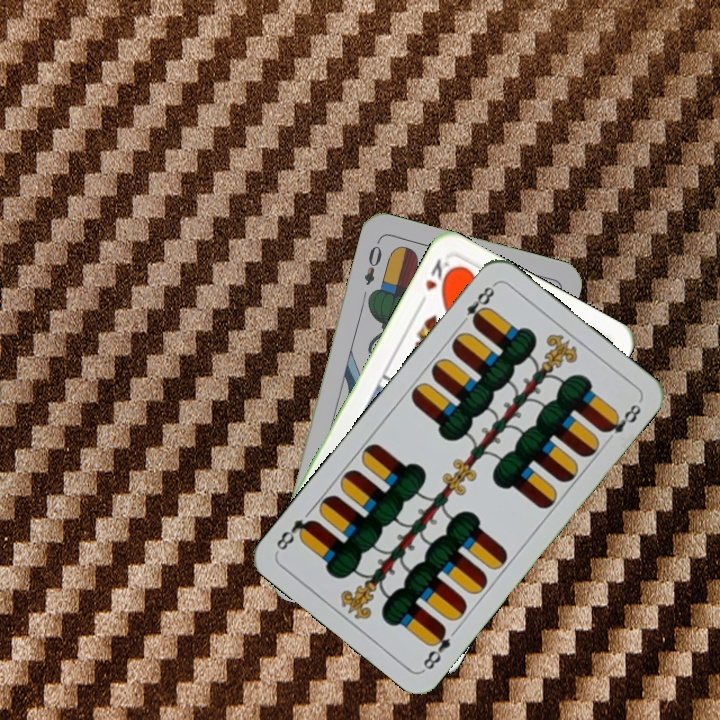E8: (455, 280, 498, 329), (419, 622, 454, 674)
EO: (360, 236, 385, 288)
HK: (415, 254, 457, 309)
